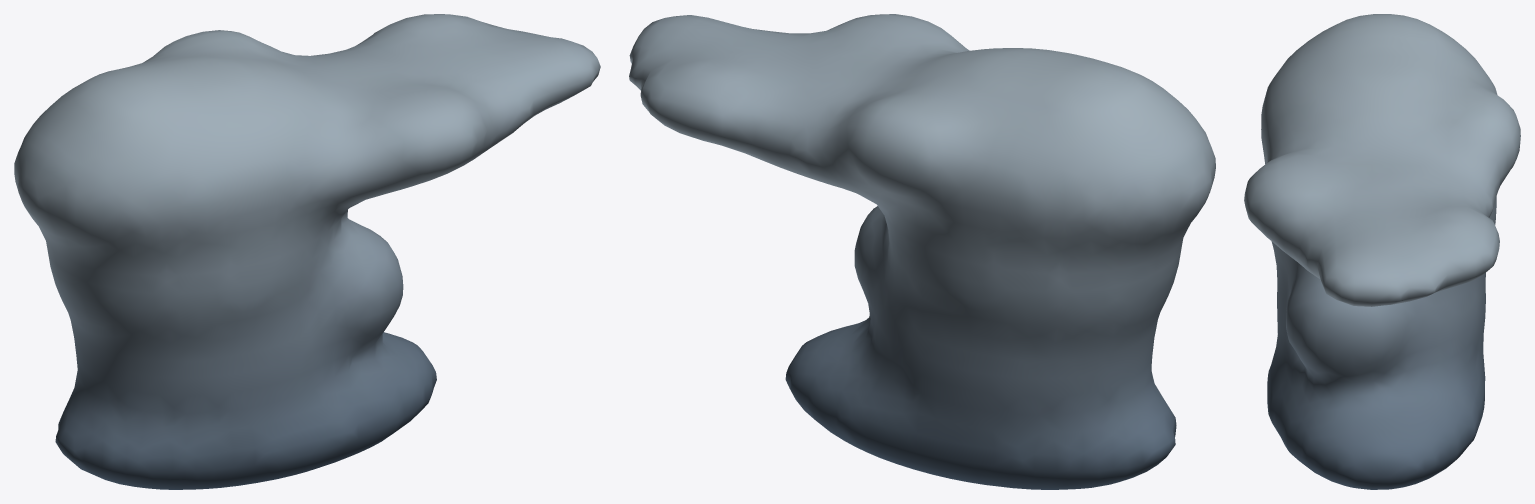
File: fw_cloud_storm_anvil.glb
3 views of the same model, side by side, from view 1: azimuth 30°, elevation 25°; view 2: azimuth 150°, elevation 25°; view 3: azimuth 270°, elevation 25° (orthographic). The views are drawn at different scales.
Visible parts, largest first — view 1: body; view 2: body; view 3: body.
Part boxes in pixels (box(x1,y1,x2,y2)): body: box(14, 14, 600, 489); body: box(629, 14, 1215, 489); body: box(1244, 14, 1520, 489).
Bounding box in the file's own units: 4.06 × 2.81 × 1.9.
